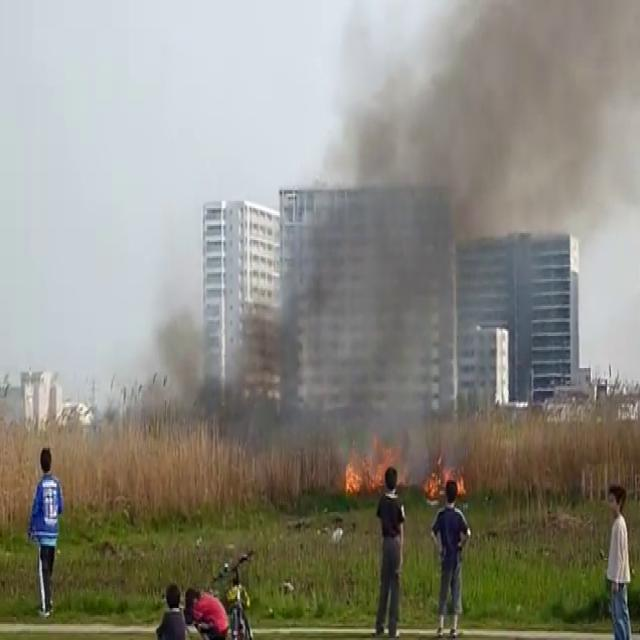Fire: (340, 452, 368, 503)
Smoke: (266, 0, 640, 460), (130, 282, 376, 488)
